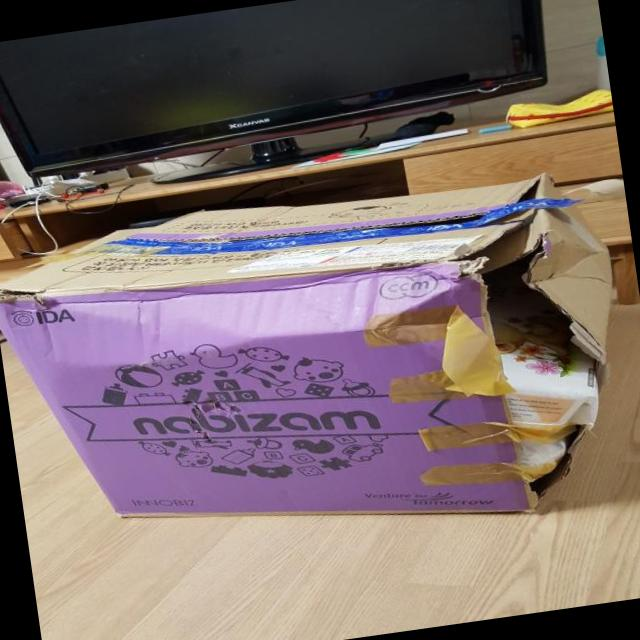crushed: (437, 221, 606, 511)
